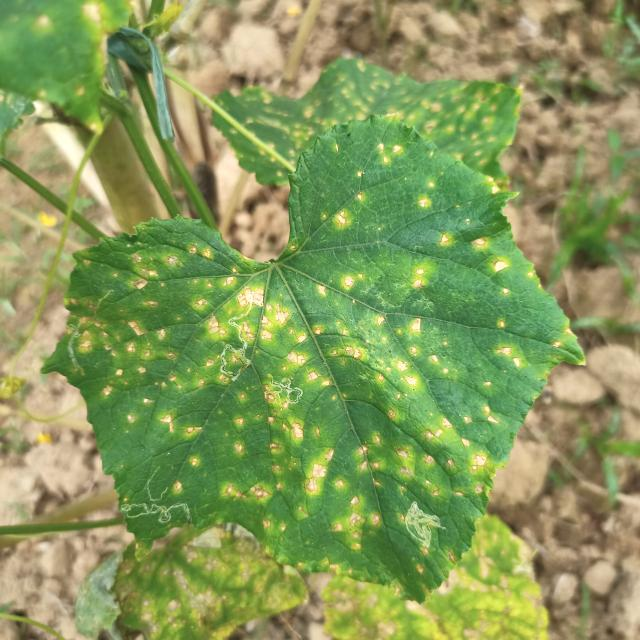disease_cucumber: (65, 244, 537, 572), (327, 189, 366, 234), (436, 230, 490, 252), (414, 179, 440, 212), (376, 137, 402, 169)
